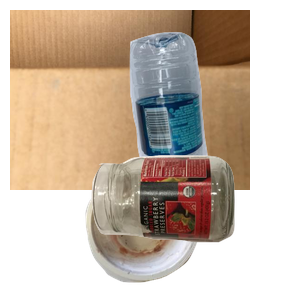cardboard: (10, 10, 250, 190)
glass: (89, 153, 300, 300)
plastic: (127, 29, 300, 209)
trash: (83, 163, 276, 300)
